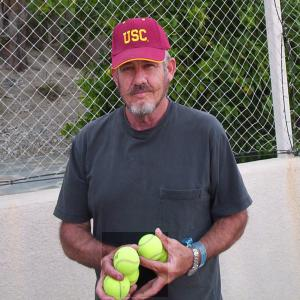TennisBall: (103, 234, 170, 300)
